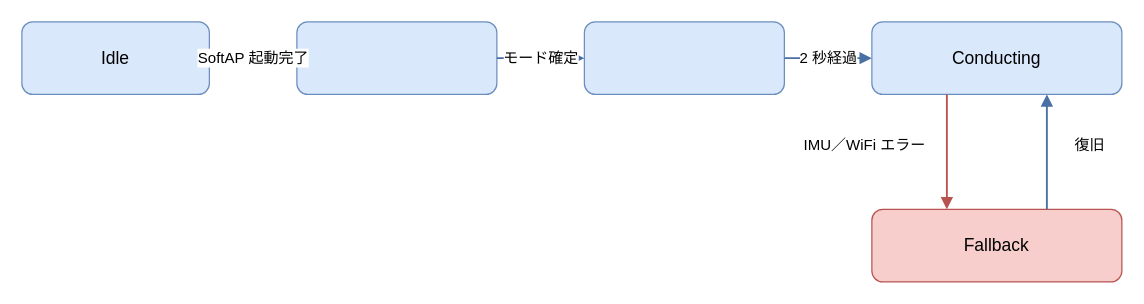
The diagram is 1144 pixels wide and 304 high, and some of its shapes have lost their labels. The shapes that lost their labels are listed below. From the top down, each one's centre as x and y in pixels, then its label:
(x=396, y=57): ModeSelect
(x=683, y=57): Calibrating
